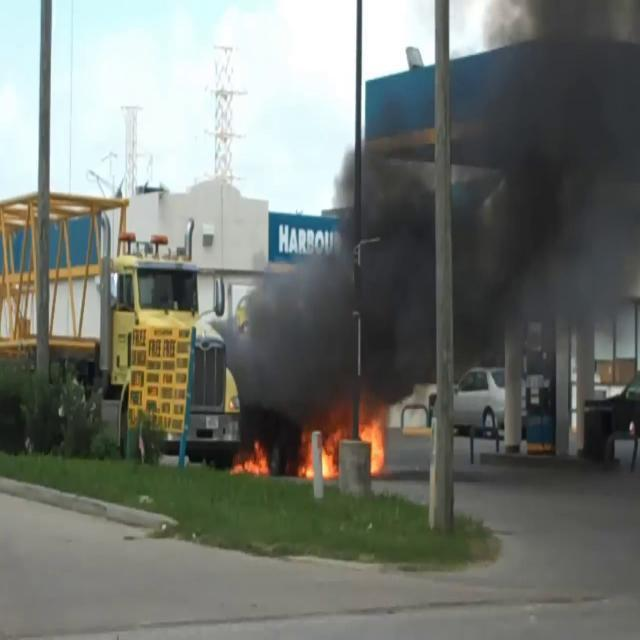Fire: (300, 424, 340, 484), (357, 408, 388, 476), (233, 438, 270, 481)
Smoke: (225, 0, 640, 401)
